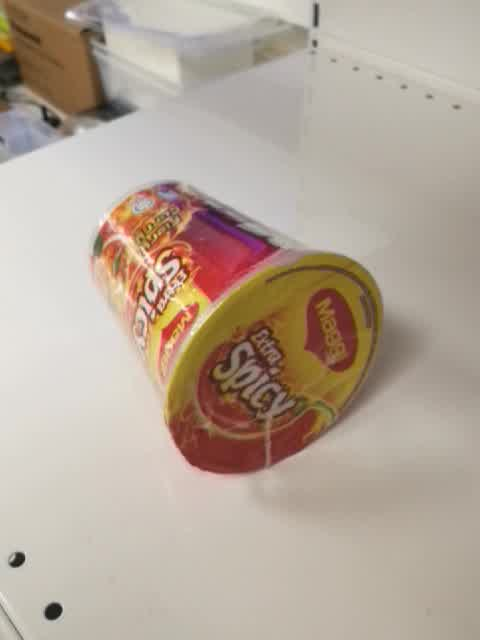maggi: (86, 179, 386, 476)
